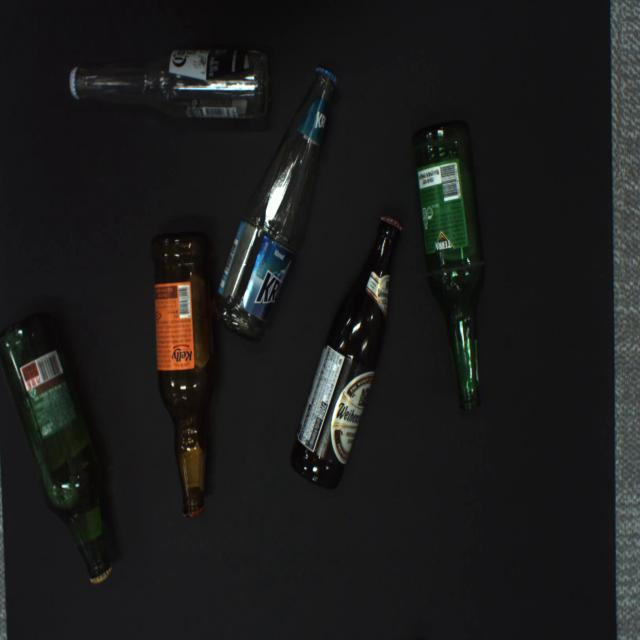beer-bottle: (211, 66, 338, 342), (290, 216, 404, 490), (0, 313, 113, 585), (412, 120, 485, 411), (152, 232, 217, 518), (69, 50, 269, 119)
